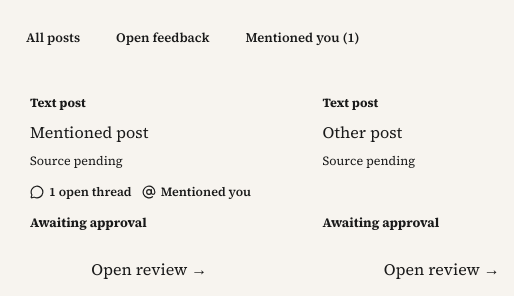
Scenario: counts open threads on batch cards and filters posts mentioned to this viewer
Expected: the text "1 open thread" is shown, 30,182 -> 132,201
Expected: the text "Mentioned you" is shown, 142,182 -> 251,201
Step 1. Click the button "Mentioned you (1)" → (303, 38), box 232,16 -> 374,60
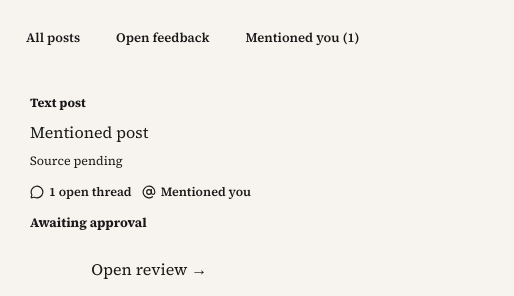
Expected: the heading "Mentioned post" is shown, 30,121 -> 148,143
Result: the heading "Other post" is gone
Step 2. Click the button "All posts" → (53, 38), box 12,16 -> 94,60
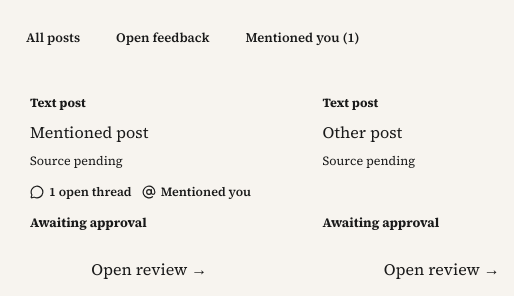
Result: the heading "Other post" is shown at 322,121 -> 402,143
